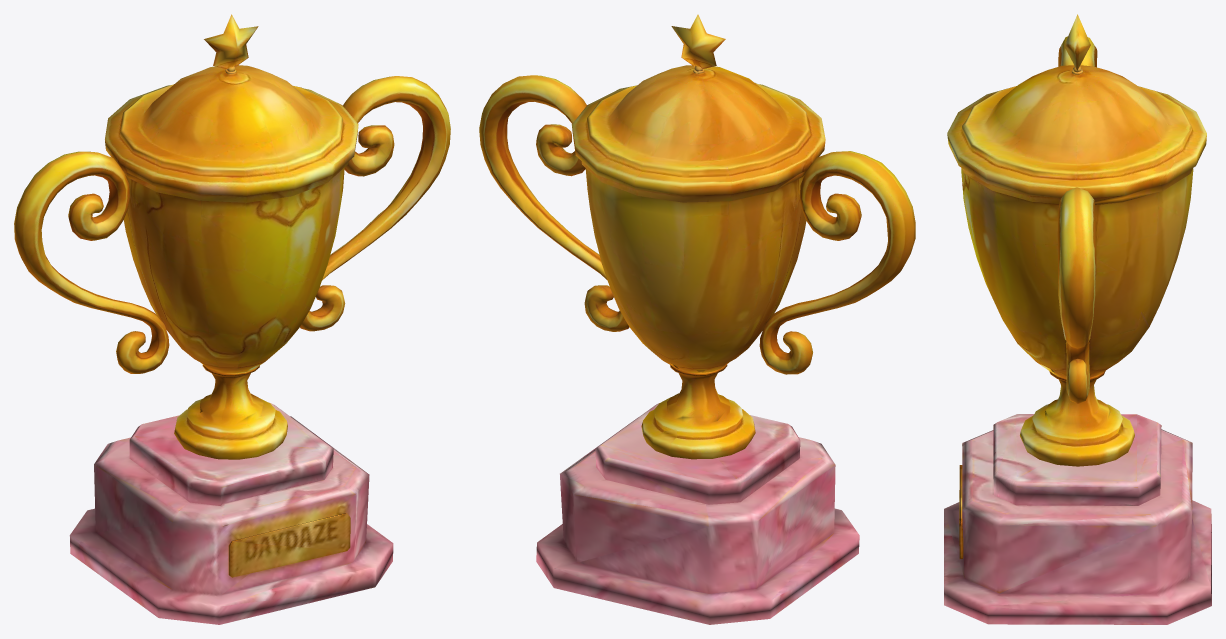
The model's file is dd-trophy.glb.
3 renders of one model, left to right at view 1: azimuth 30°, elevation 25°; view 2: azimuth 150°, elevation 25°; view 3: azimuth 270°, elevation 25°, orthographic.
Visible parts, largest first — view 1: geometry_0; view 2: geometry_0; view 3: geometry_0.
Part boxes in pixels (left/top/right/bottom): geometry_0: left=14, top=14, right=450, bottom=624; geometry_0: left=479, top=14, right=915, bottom=624; geometry_0: left=944, top=14, right=1211, bottom=624.
Size of the model in its own units: 0.832 by 1 by 0.4388.
Materials: 1 (1 with a texture image).
